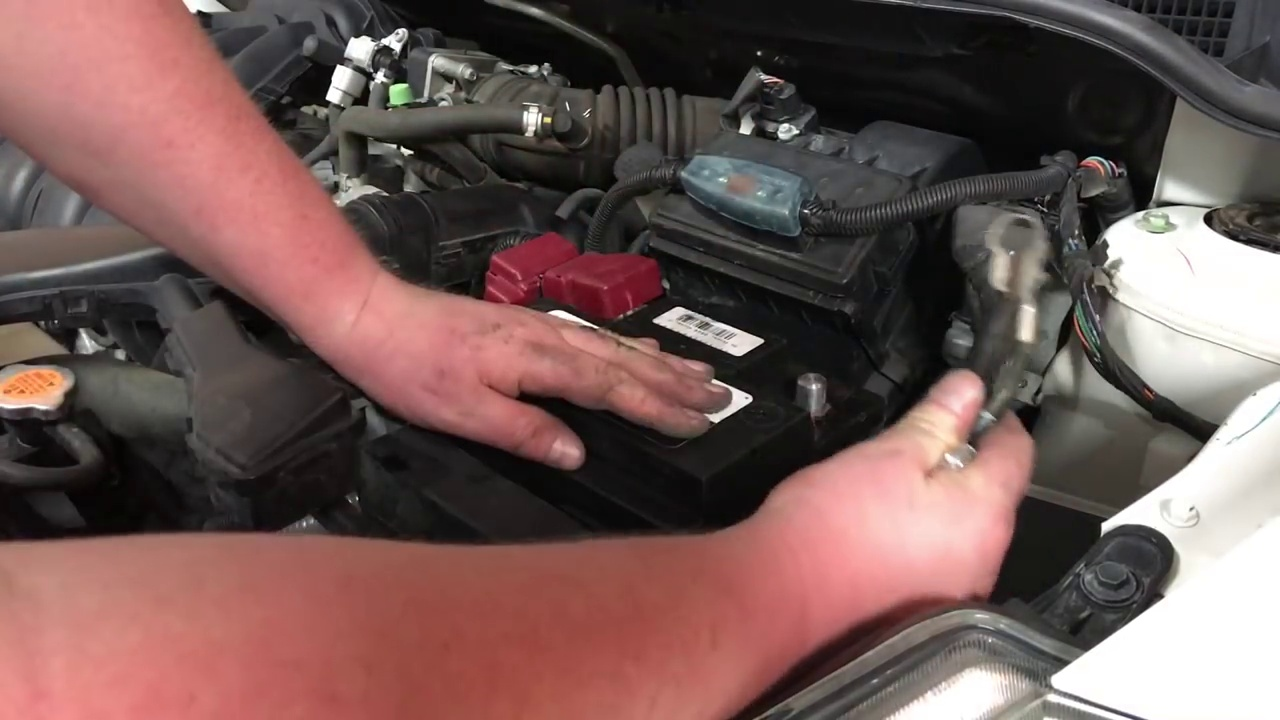battery: (471, 253, 844, 475)
neg_disconnected: (775, 352, 850, 436)
pos_connected: (495, 235, 671, 318)
pos_touched: (466, 231, 670, 395)
